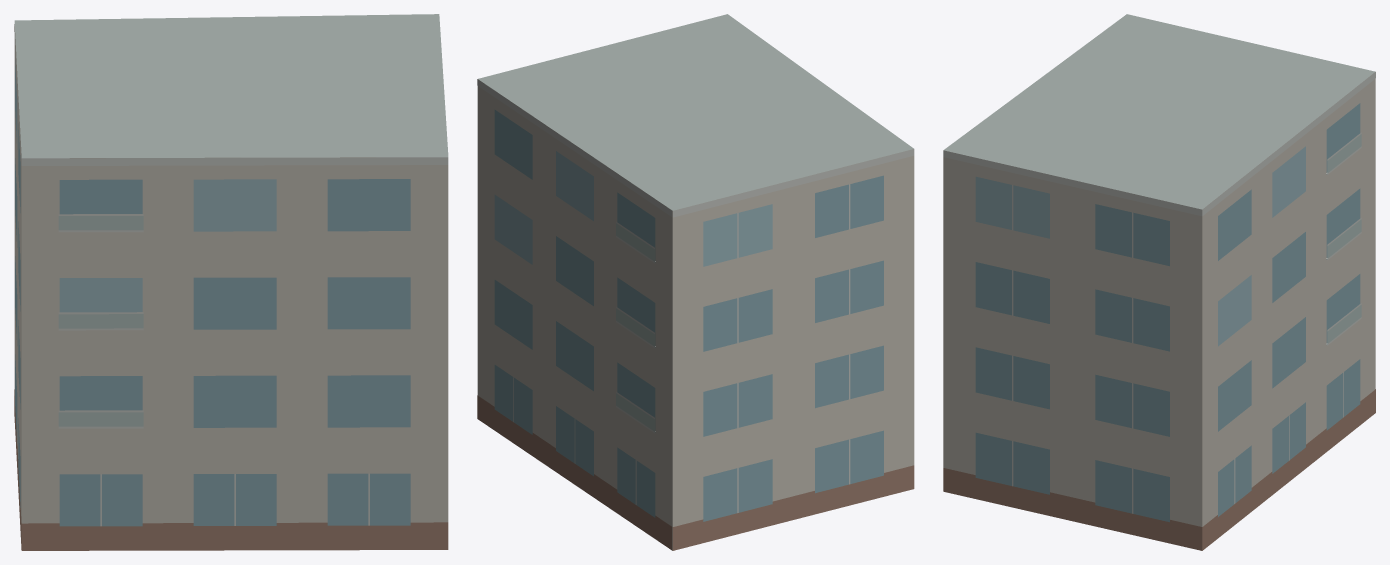
The model's file is survey-upis-32694917.glb.
The picture shows the model from 3 angles, left to right: view 1: azimuth 30°, elevation 25°; view 2: azimuth 150°, elevation 25°; view 3: azimuth 270°, elevation 25°; orthographic projection. The views are drawn at different scales.
Visible parts, largest first — view 1: survey-upis-32694917.tmp; view 2: survey-upis-32694917.tmp; view 3: survey-upis-32694917.tmp.
Part boxes in pixels (x1,y1,x2,y2): survey-upis-32694917.tmp: (14,14,448,550); survey-upis-32694917.tmp: (477,14,914,550); survey-upis-32694917.tmp: (943,14,1375,550).
Size of the model in its own units: 15 by 12.2 by 14.02.
